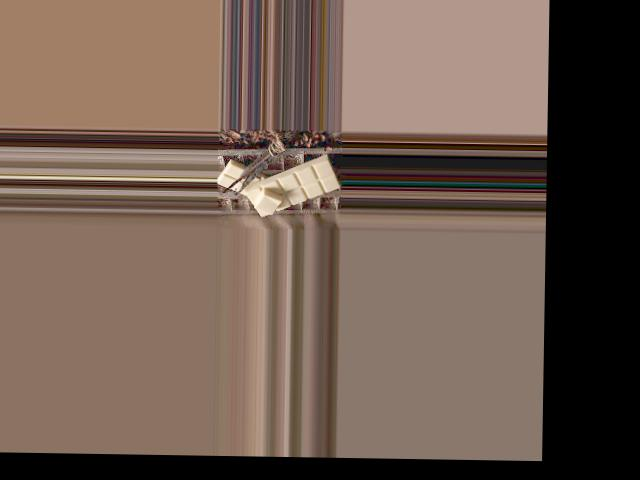chocolate: (241, 155, 339, 217)
